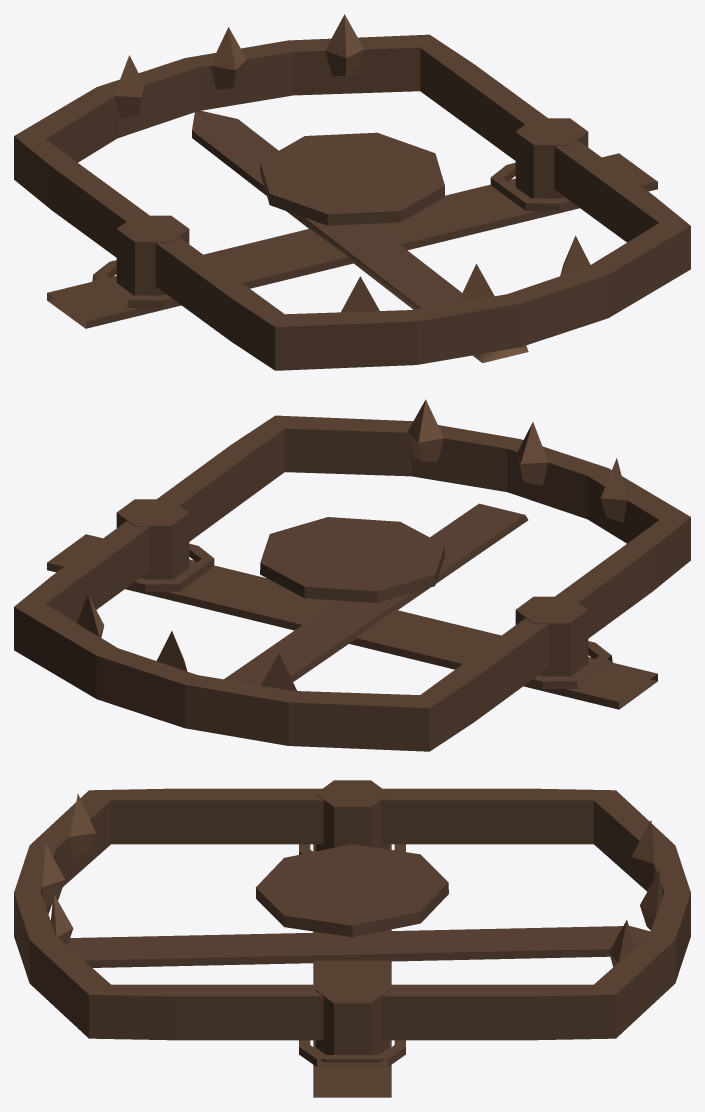
Rendered from beartrap_1.fbx.
The picture shows the model from 3 angles, top to bottom: view 1: azimuth 30°, elevation 25°; view 2: azimuth 150°, elevation 25°; view 3: azimuth 270°, elevation 25°; orthographic projection.
Parts seen in each view (by area): view 1: SK_Prop_Bear_Trap_01, SK_Prop_Bear_Trap_Jaw_01, SK_Prop_Bear_Trap_Jaw_02; view 2: SK_Prop_Bear_Trap_01, SK_Prop_Bear_Trap_Jaw_02, SK_Prop_Bear_Trap_Jaw_01; view 3: SK_Prop_Bear_Trap_01, SK_Prop_Bear_Trap_Jaw_02, SK_Prop_Bear_Trap_Jaw_01.
Boxes of the visible parts, box(x1,y1,x2,y2) form: SK_Prop_Bear_Trap_01: box(47, 110, 657, 363); SK_Prop_Bear_Trap_Jaw_01: box(155, 140, 690, 370); SK_Prop_Bear_Trap_Jaw_02: box(14, 14, 547, 257); SK_Prop_Bear_Trap_01: box(47, 499, 657, 709); SK_Prop_Bear_Trap_Jaw_02: box(14, 521, 549, 751); SK_Prop_Bear_Trap_Jaw_01: box(157, 399, 690, 638); SK_Prop_Bear_Trap_01: box(67, 780, 650, 1097); SK_Prop_Bear_Trap_Jaw_02: box(381, 788, 690, 1040); SK_Prop_Bear_Trap_Jaw_01: box(14, 788, 323, 1040).
Size of the model in its own units: 78.55 by 13.18 by 79.78.
1 material, 1 textured.
